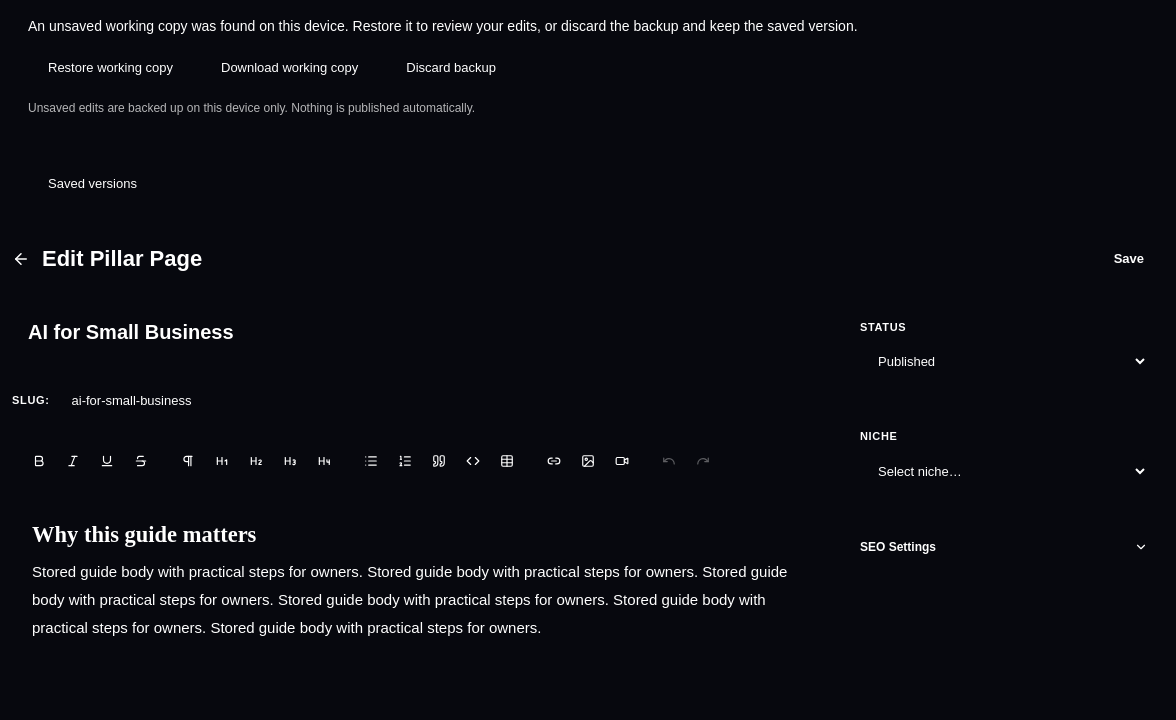
Scenario: topic guide editor › recovers a crashed guide draft only after explicit restore and clears it on save
Earlier steps of the test are not shown.
Later steps or results of the test are not shown.
Expected: the 1st field showing "AI for Small Business" is shown, 12,302 -> 820,360
Click the button "Restore working copy".
click(110, 68)  # box 28,48 -> 193,88
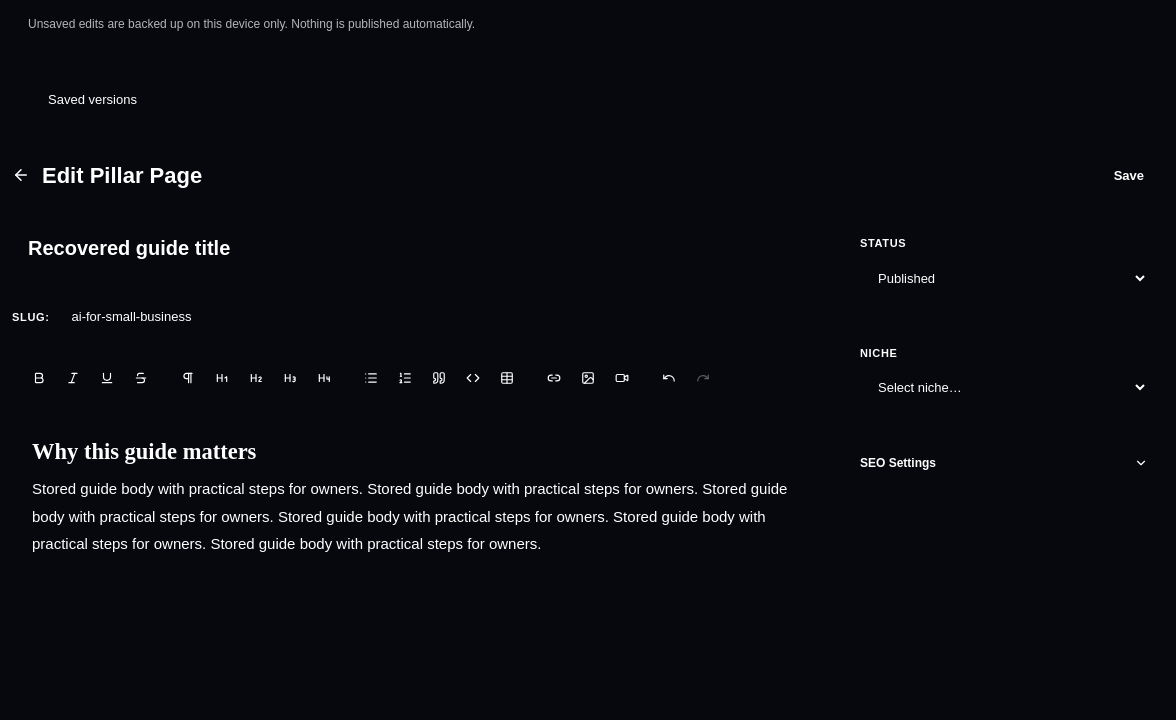
Result: the 1st field showing "Recovered guide title" is shown at 12,219 -> 820,277
